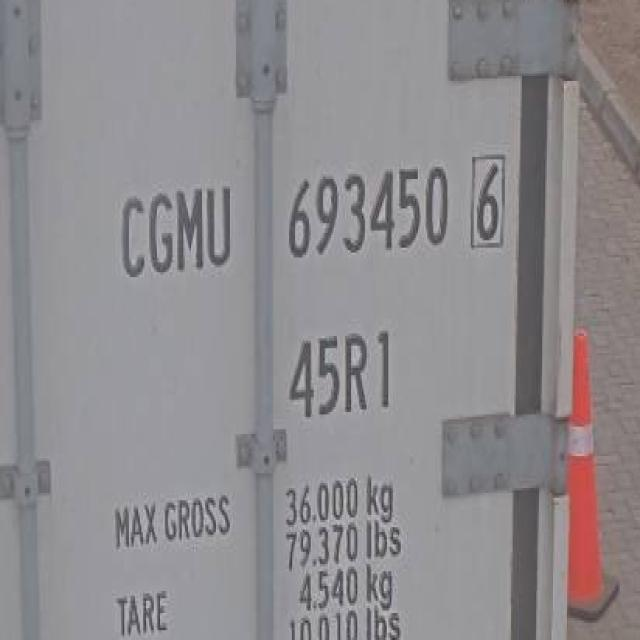dv: (465, 146, 511, 258)
owner: (115, 176, 241, 286)
serial: (282, 159, 454, 273)
size: (280, 317, 399, 421)
